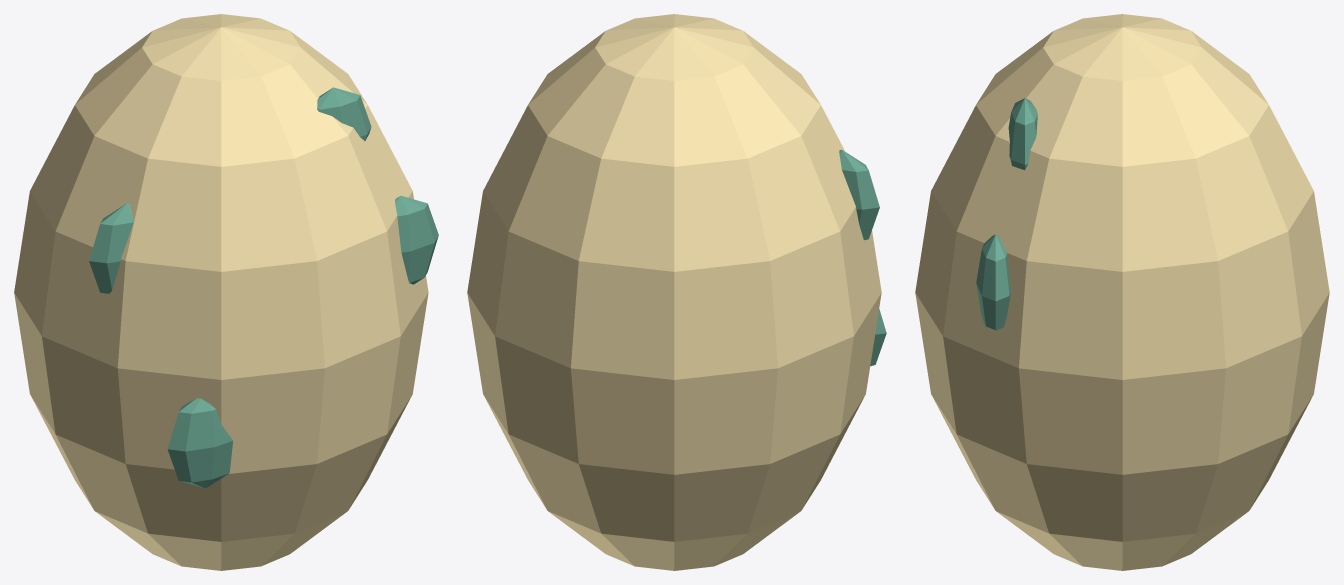
The model's file is egg.obj.
3 renders of one model, left to right at view 1: azimuth 30°, elevation 25°; view 2: azimuth 150°, elevation 25°; view 3: azimuth 270°, elevation 25°, orthographic.
Parts seen in each view (by area): view 1: egg; view 2: egg; view 3: egg.
Boxes of the visible parts, <box> form: egg: <box>14,14,438,570</box>; egg: <box>467,14,886,570</box>; egg: <box>915,14,1329,570</box>.
Size of the model in its own units: 1.7 by 2.4 by 1.7.
